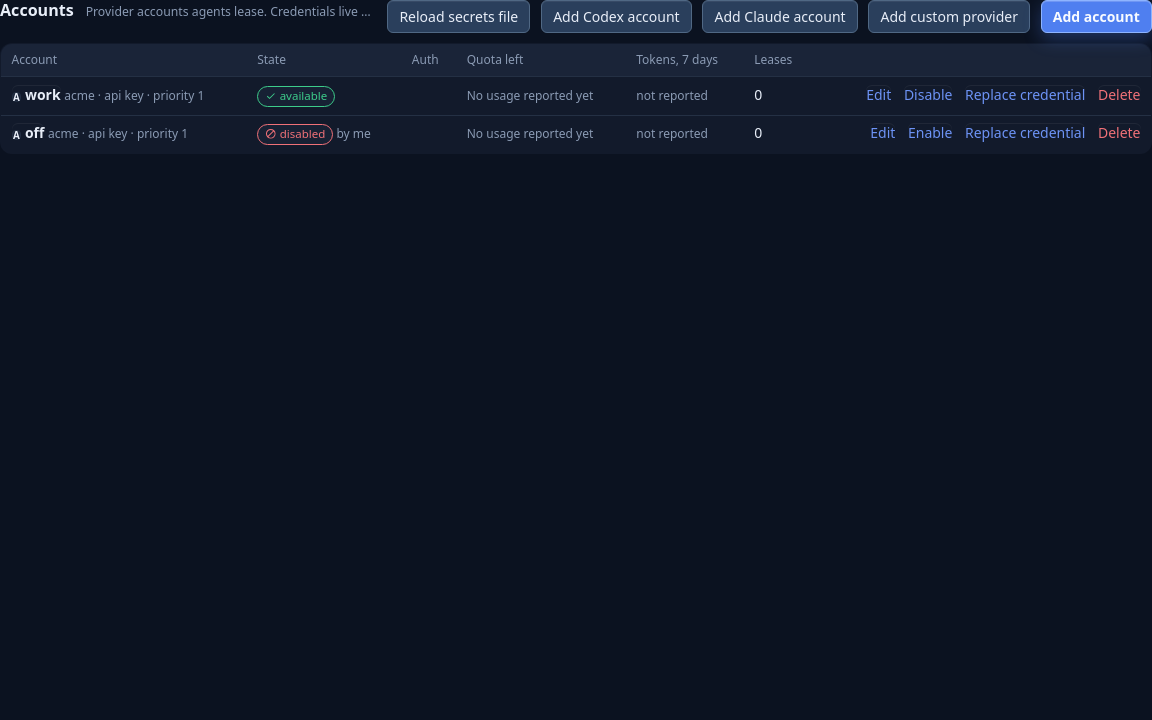
Test: account row actions › keeps the dialog open with the error when saving fails, and Cancel discards
Click the button with aria-label "Edit work": (879, 95) [866, 85, 891, 105]
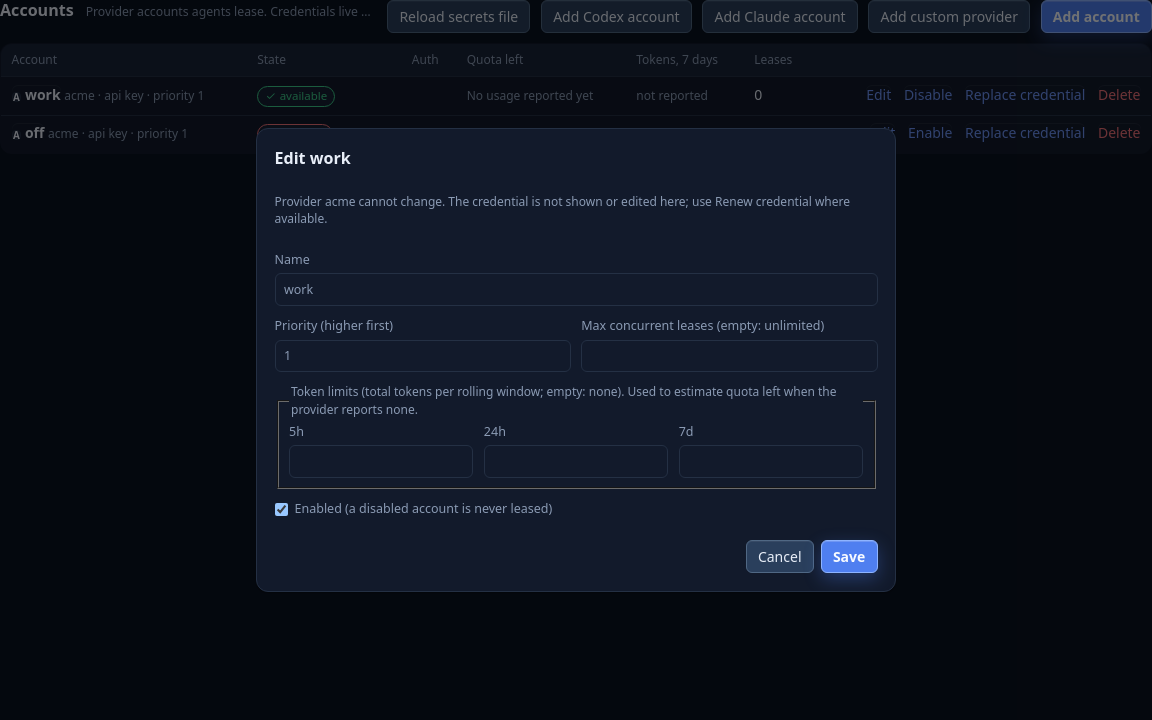
Replace the text in the field labelled "Name" with "x": (576, 290) [274, 273, 878, 306]
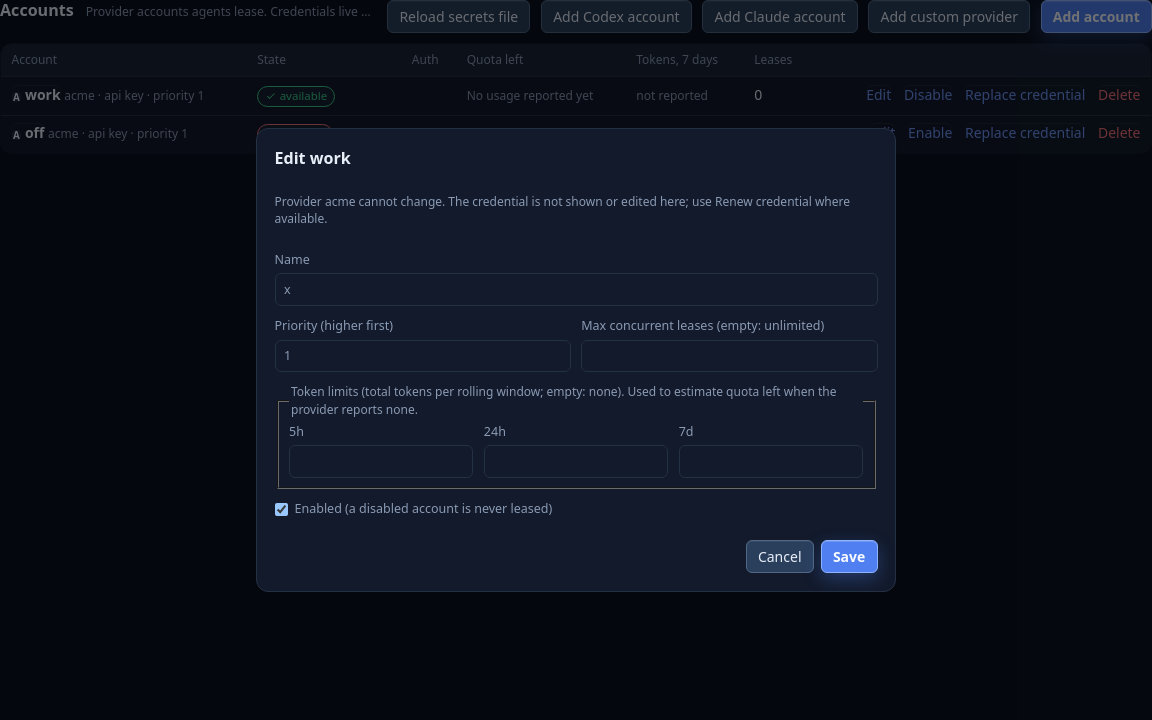
Click the button "Save": (849, 557) [821, 540, 878, 573]
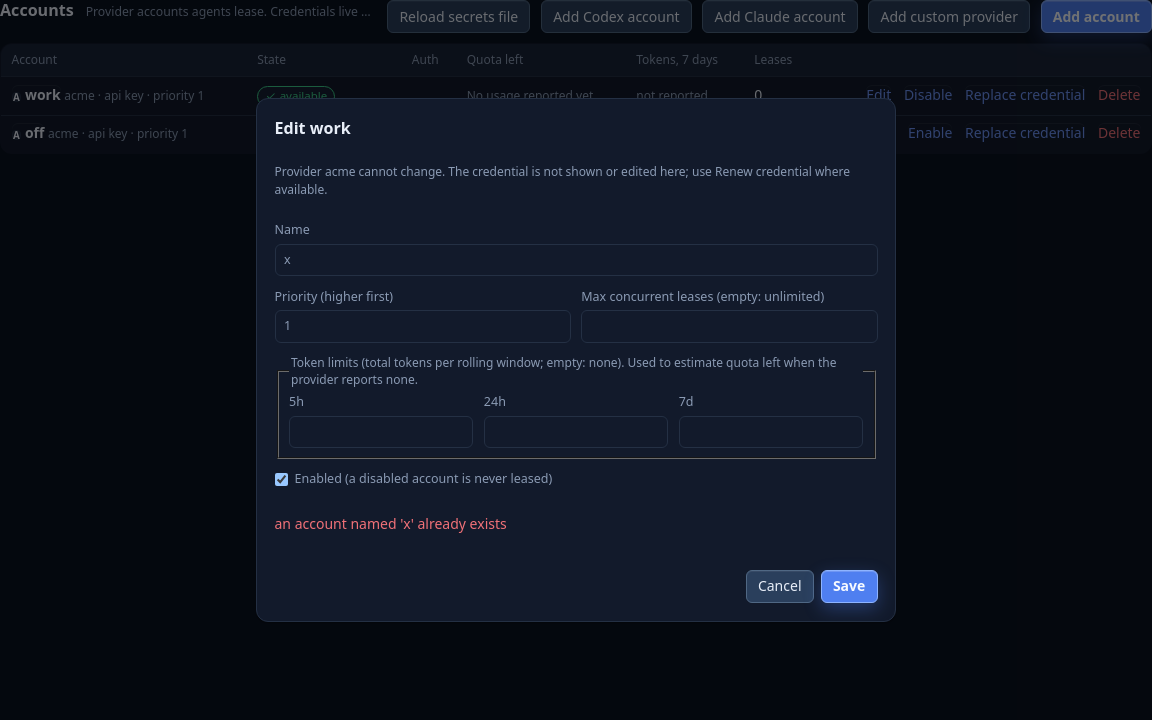
Expected: the message shows "already exists", [274, 514, 507, 533]
Click the button "Cancel": (780, 586) [746, 570, 814, 603]
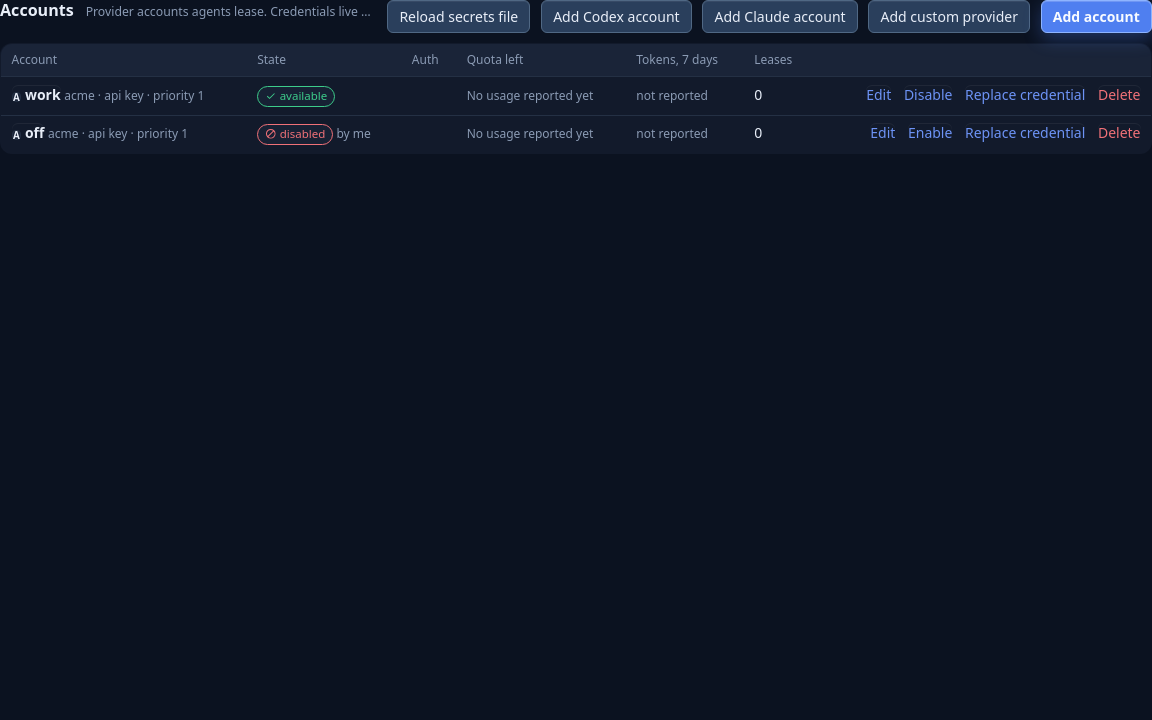
Expected: the message "an account named 'x' already exists" is gone
